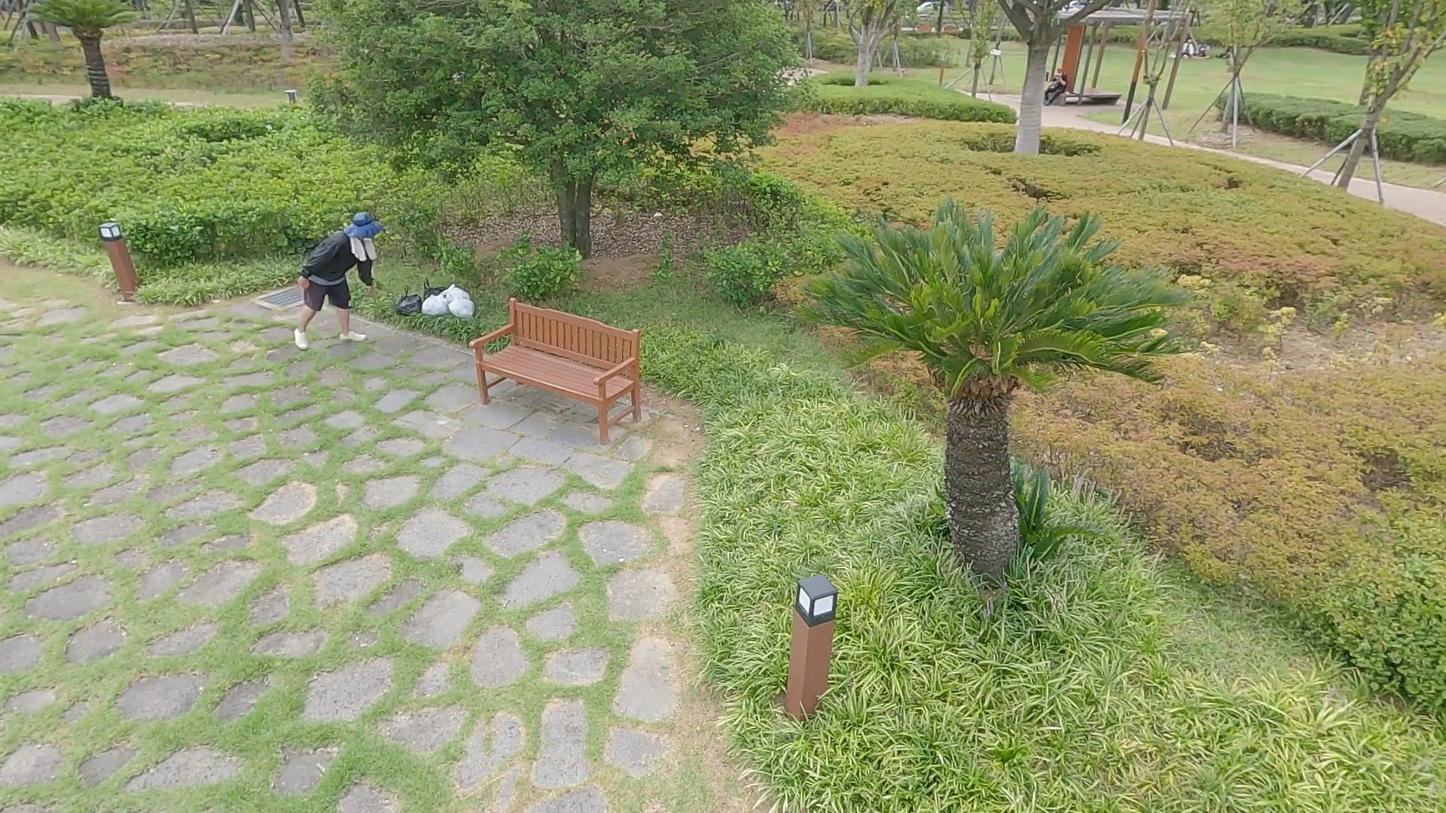person: (294, 213, 384, 349)
trash: (441, 284, 473, 313), (395, 282, 421, 316), (419, 278, 449, 306), (422, 292, 454, 318), (448, 299, 476, 319)
